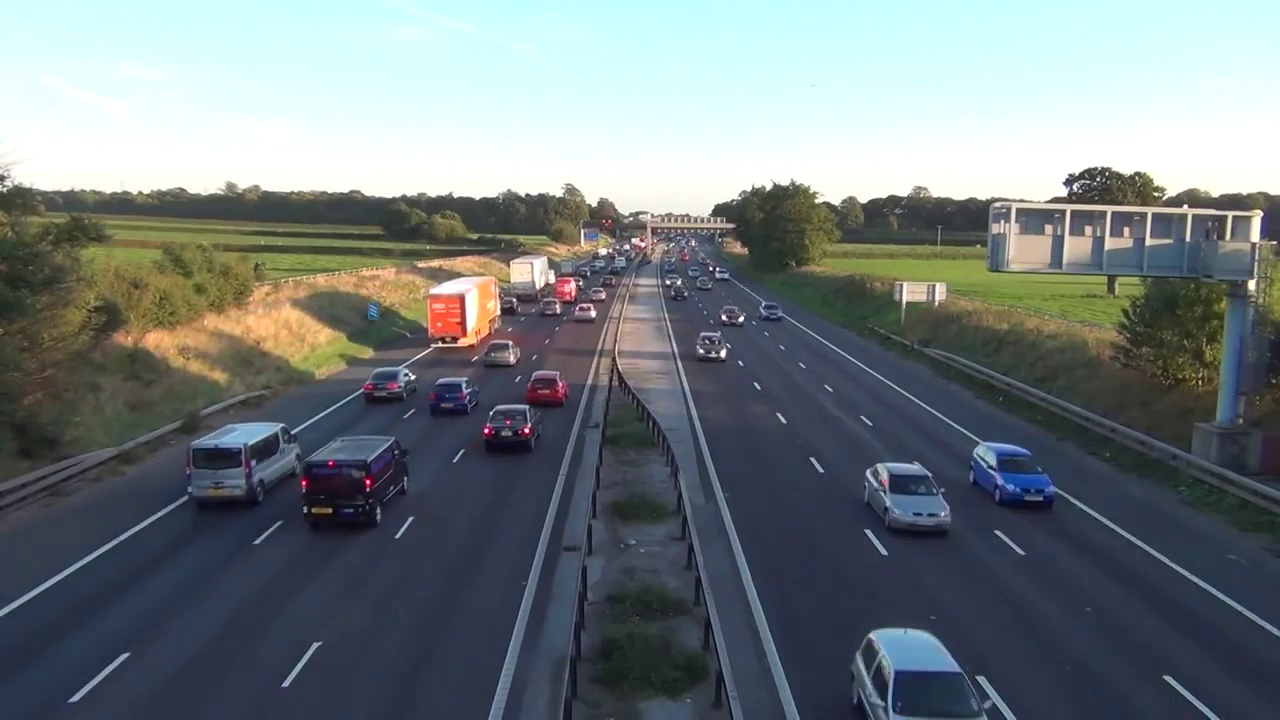bus: (847, 621, 990, 715), (856, 459, 959, 539), (964, 436, 1059, 520), (485, 393, 545, 458), (360, 362, 420, 407), (428, 373, 480, 415), (525, 365, 570, 409), (694, 330, 733, 363), (480, 339, 519, 367), (716, 305, 745, 328), (758, 299, 783, 323), (539, 296, 565, 316), (500, 293, 522, 316), (574, 302, 597, 322), (664, 273, 684, 290), (670, 285, 688, 303), (600, 274, 617, 289), (590, 287, 605, 304), (696, 275, 712, 289), (547, 268, 557, 289), (688, 266, 702, 280), (714, 269, 731, 279), (608, 264, 622, 276), (662, 262, 677, 273), (707, 261, 720, 273), (576, 268, 591, 278), (573, 278, 583, 290), (587, 263, 600, 272), (595, 260, 607, 267)
car: (424, 274, 505, 350), (508, 254, 549, 301), (560, 258, 581, 278)
lorry: (302, 430, 415, 529), (188, 421, 303, 504), (555, 277, 578, 303), (613, 257, 626, 269)
